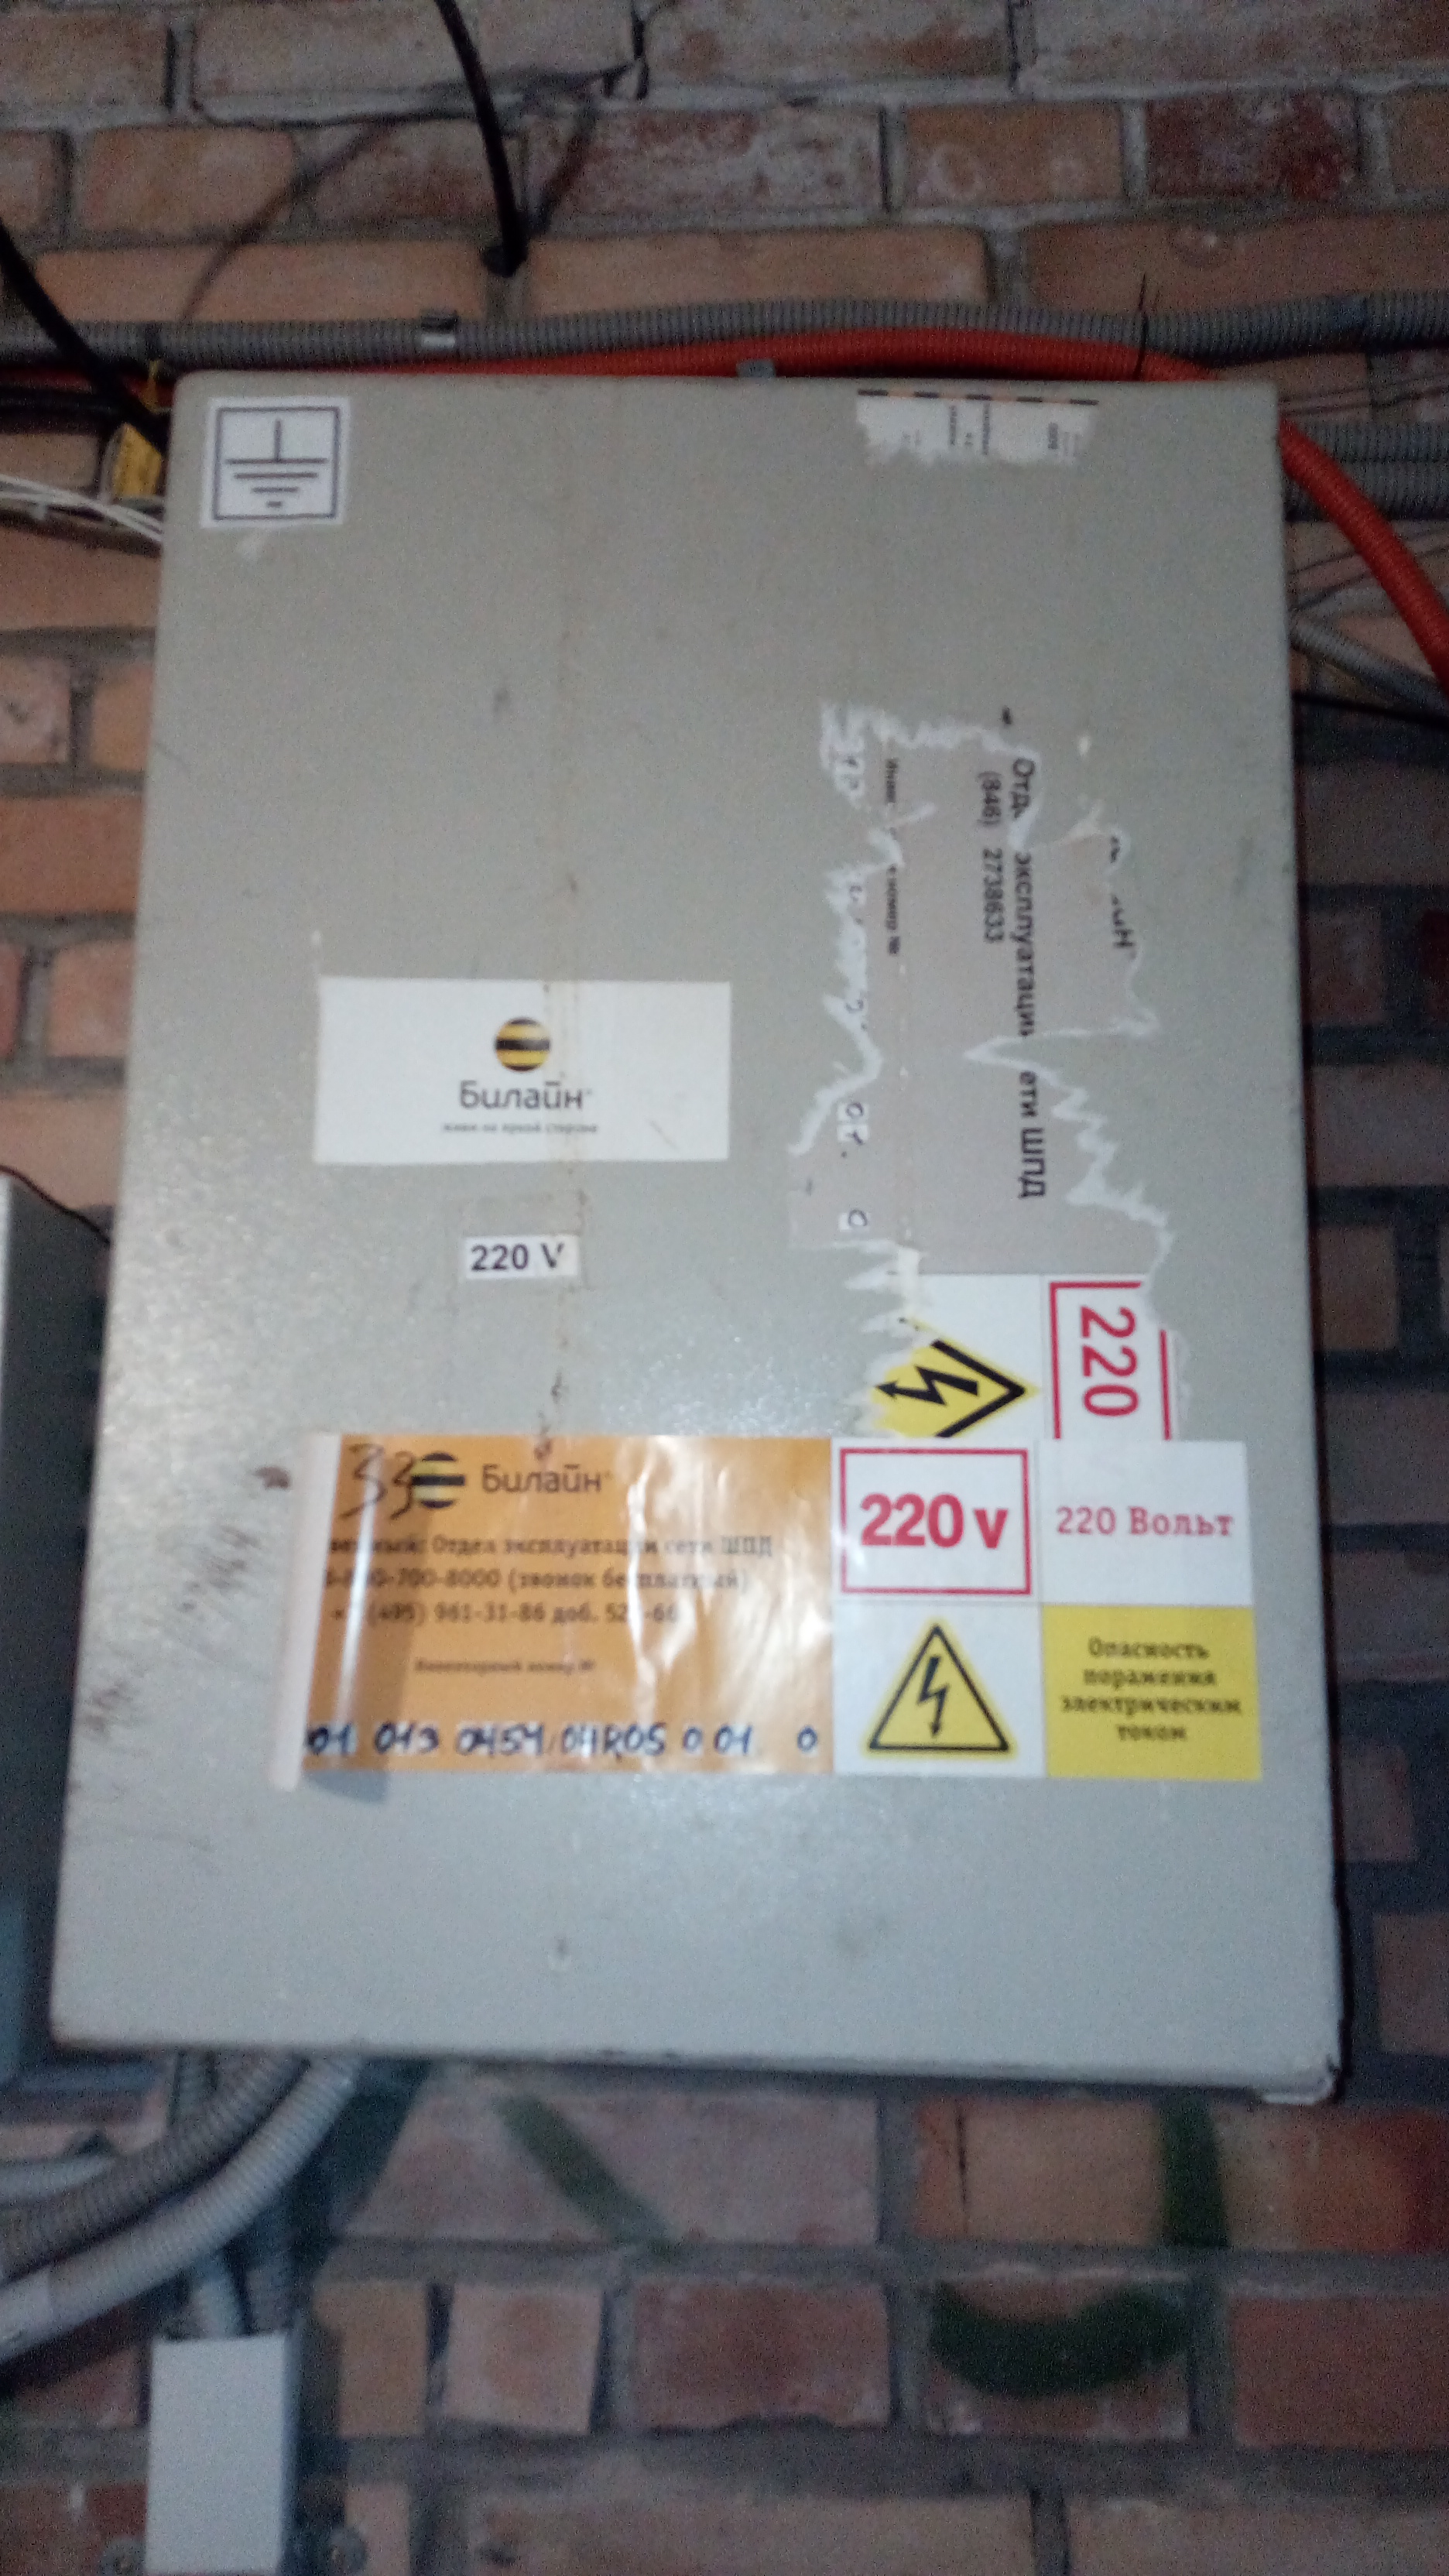sv-5: (37, 352, 1364, 2116)
